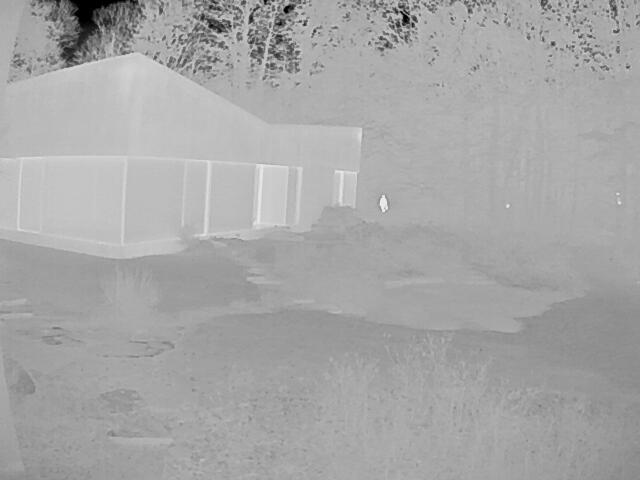person: (378, 194, 387, 211)
